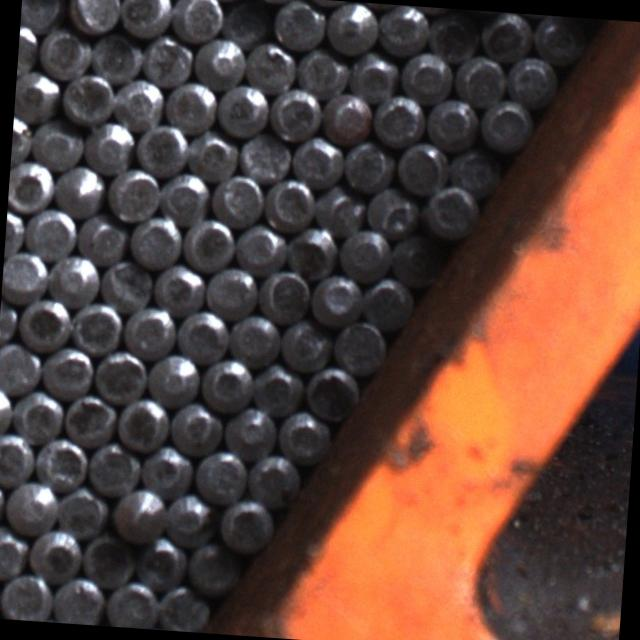tool: (78, 530, 138, 589), (418, 182, 479, 240), (214, 496, 274, 554), (302, 362, 361, 420), (245, 446, 302, 506), (92, 346, 150, 404), (108, 483, 166, 541), (24, 526, 82, 584), (184, 540, 242, 598), (113, 393, 170, 452), (132, 534, 188, 594), (173, 306, 230, 364), (133, 119, 190, 176), (61, 389, 118, 446), (15, 294, 71, 352), (267, 84, 323, 142), (192, 446, 248, 504), (106, 165, 162, 222), (198, 355, 255, 411), (84, 439, 140, 496), (32, 434, 88, 491), (109, 75, 166, 131), (155, 580, 214, 634), (122, 302, 178, 358), (9, 387, 65, 443), (68, 299, 124, 355), (86, 30, 142, 86), (180, 216, 236, 272), (80, 118, 136, 174), (166, 399, 222, 455), (256, 266, 312, 322), (144, 349, 200, 405), (54, 483, 110, 539), (137, 442, 193, 498), (160, 490, 216, 546), (332, 318, 388, 374), (361, 272, 417, 328), (214, 81, 269, 138), (127, 213, 182, 269), (202, 263, 258, 318), (150, 261, 206, 316), (278, 317, 334, 372), (2, 478, 57, 534), (242, 39, 298, 94), (38, 343, 94, 398), (262, 174, 317, 230), (453, 50, 508, 106), (323, 0, 379, 55), (222, 399, 278, 454), (286, 222, 342, 277), (388, 230, 443, 286), (163, 79, 218, 134), (139, 32, 193, 88), (52, 162, 108, 216), (28, 117, 84, 171), (59, 70, 113, 126), (49, 573, 106, 626), (228, 310, 282, 365), (74, 211, 128, 266), (424, 94, 478, 149), (338, 225, 392, 280), (392, 139, 447, 193), (250, 359, 304, 414), (294, 46, 350, 99), (22, 206, 76, 260), (400, 47, 454, 101), (36, 26, 90, 80), (211, 171, 265, 225), (46, 250, 100, 304), (186, 127, 240, 181), (478, 98, 532, 152), (193, 33, 248, 86), (309, 269, 362, 323), (371, 92, 424, 146), (346, 48, 399, 102), (233, 221, 287, 274), (99, 256, 152, 310), (157, 168, 210, 222), (276, 409, 330, 462), (426, 7, 480, 60), (442, 147, 496, 200), (270, 0, 325, 52), (341, 137, 394, 190), (366, 185, 419, 238), (238, 130, 292, 182), (290, 133, 344, 185), (322, 88, 374, 142), (480, 10, 534, 62), (104, 578, 158, 630), (314, 182, 368, 234), (506, 52, 558, 105), (532, 15, 586, 66), (378, 4, 432, 54), (0, 246, 48, 302), (6, 158, 54, 214), (0, 569, 51, 621), (218, 0, 272, 49), (13, 67, 60, 123), (170, 0, 223, 43), (0, 340, 40, 394), (117, 0, 171, 36), (0, 431, 33, 486), (66, 0, 121, 33), (0, 524, 28, 579), (19, 0, 65, 33)
